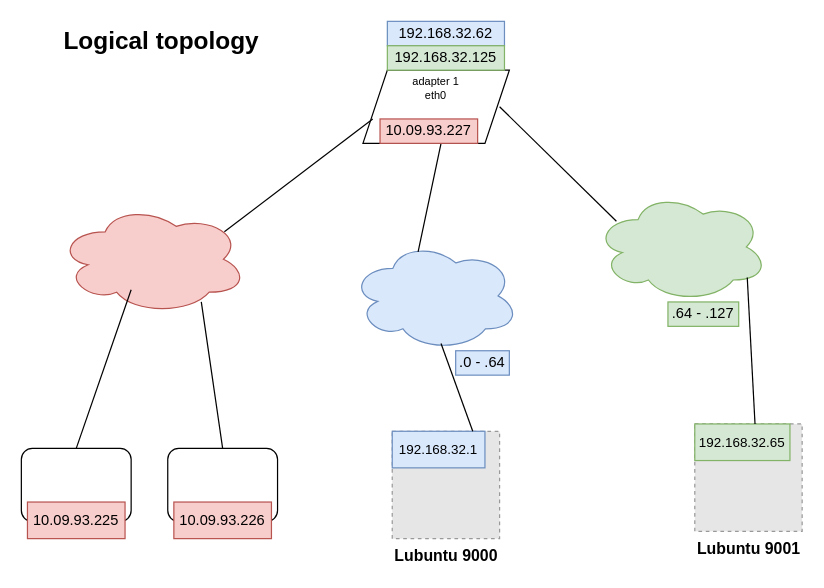
Image size: 824x588. Some labels were removed from this diagram. Grey dashed boxes stand in for pictures. Here are the shapes that lost their labels. From the top down, the box of each, then its label:
(362, 69, 509, 143): VyOS / router
(57, 203, 247, 314): 10.09.93.224/28 tag 20 VLAN network_devices
(594, 191, 768, 302): 192.168.32.64/26 VLAN playstations tag 10
(350, 240, 519, 351): 192.168.32.0/26 VLAN workstations tag 5
(20, 447, 131, 522): Network_switch 1
(167, 447, 278, 522): Network_switch 2
